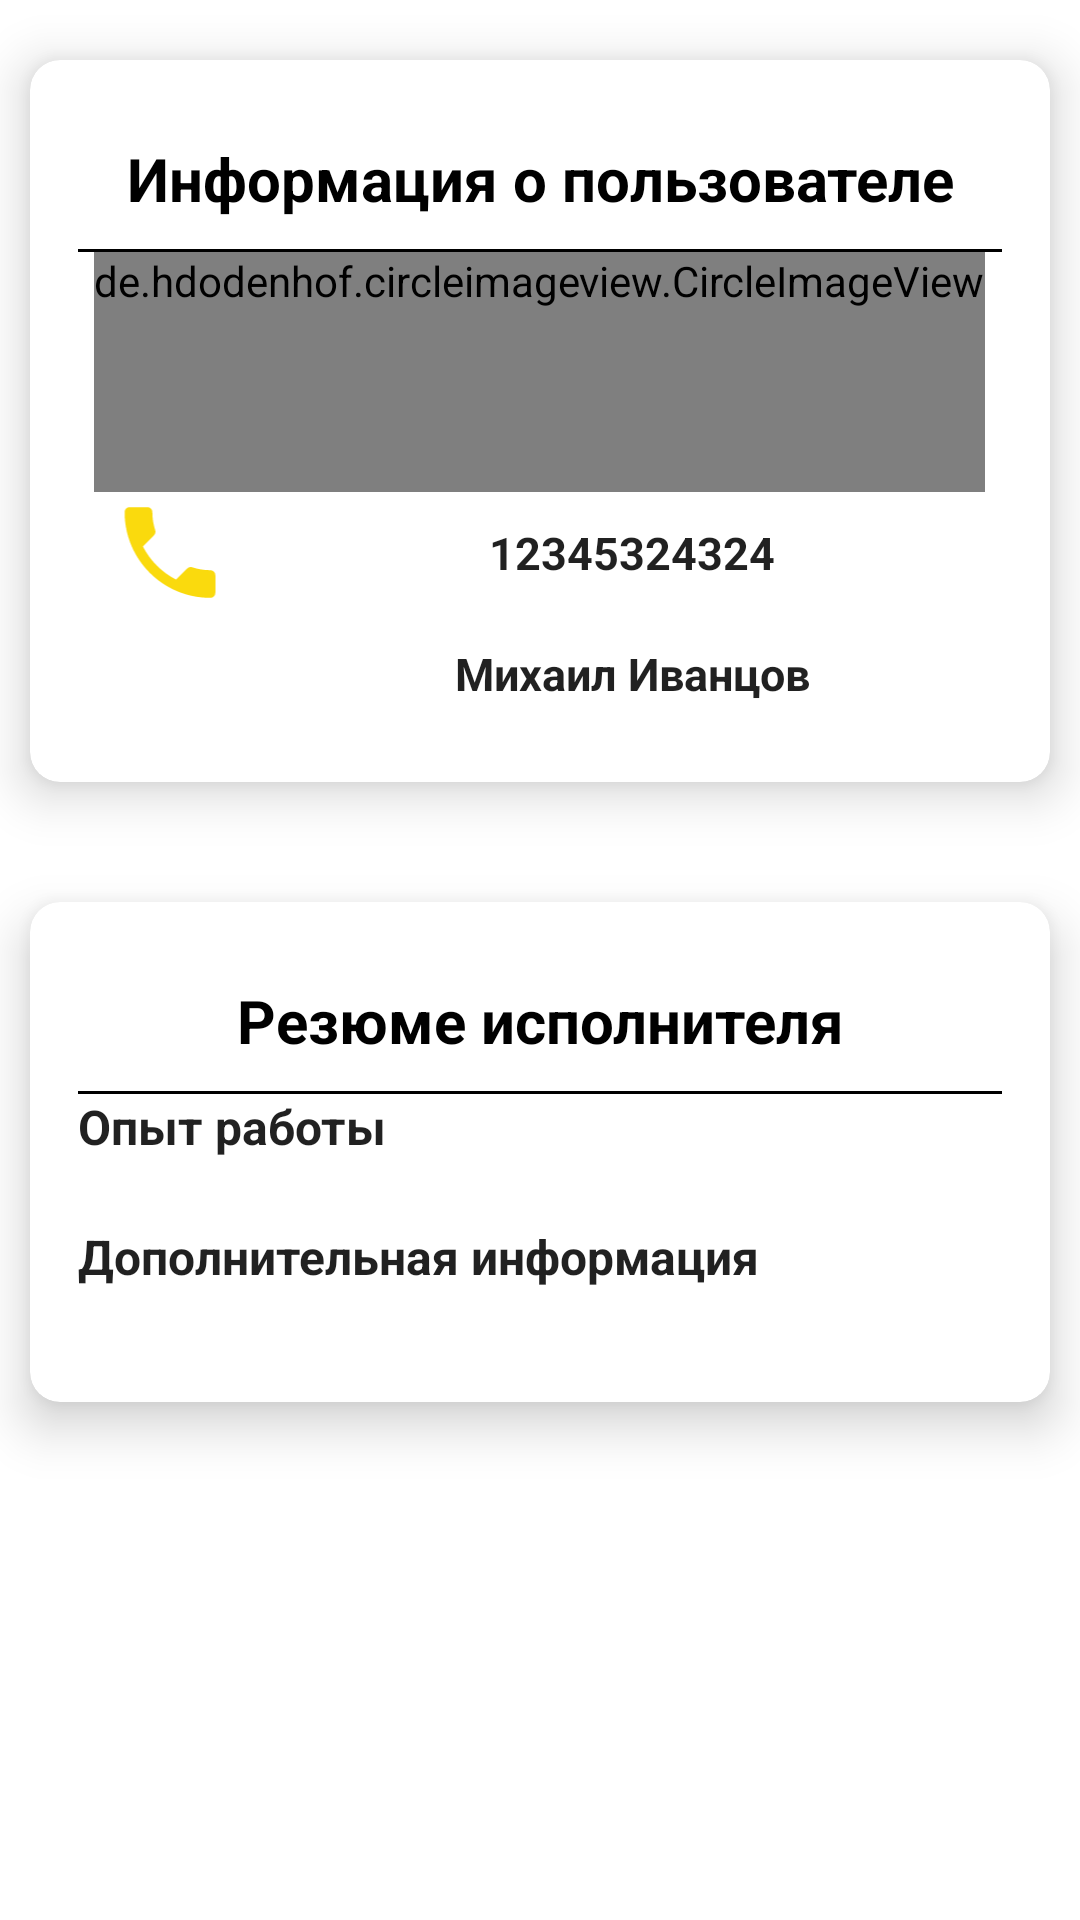

Named icons in this screenshot (1080 x 1920) and their centers, (x=x, y=y):
local phone: (x=170, y=552)
